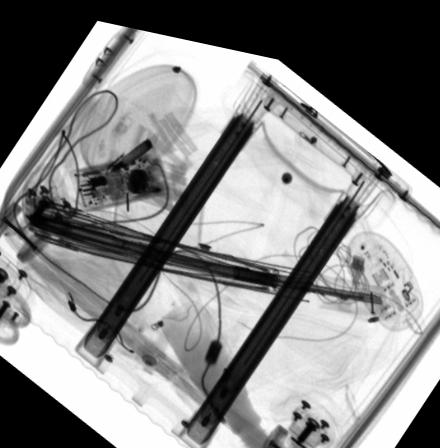Bullet: (109, 129, 152, 164)
